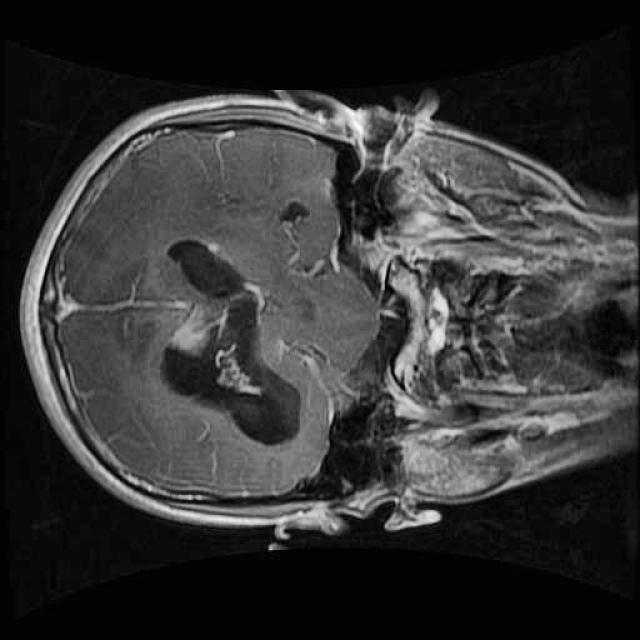Non-Tumor: (136, 220, 329, 469)
